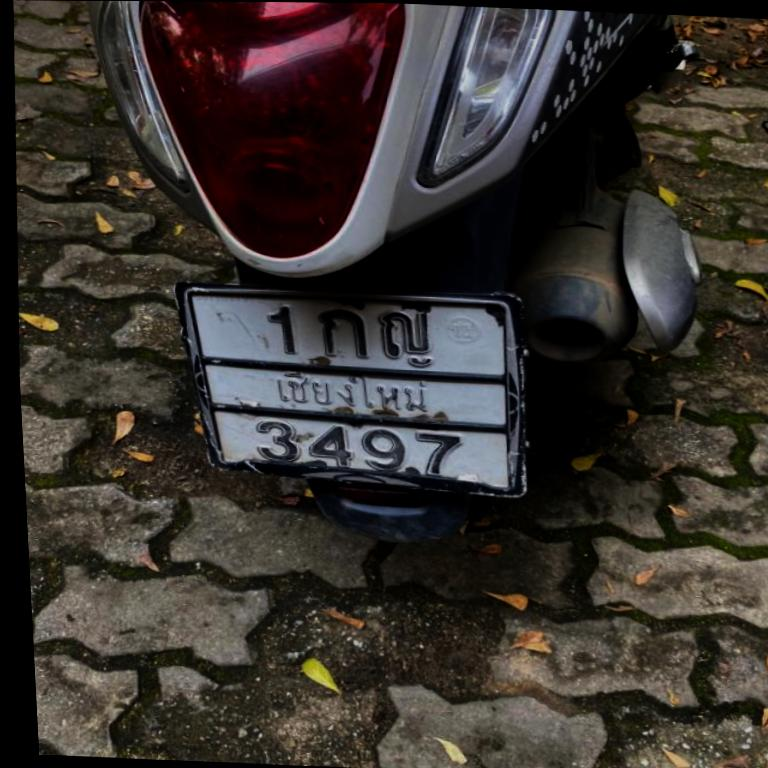license plate: (168, 277, 540, 505)
